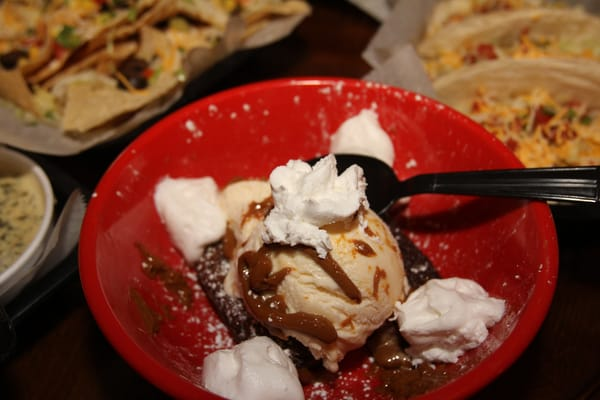salad: (328, 156, 599, 210)
sushi: (75, 72, 560, 395), (0, 143, 58, 305)
